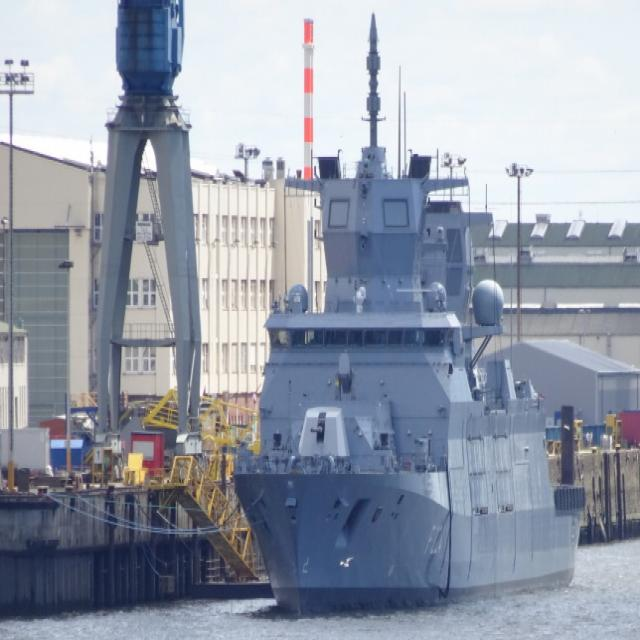Fragata: (234, 10, 584, 622)
